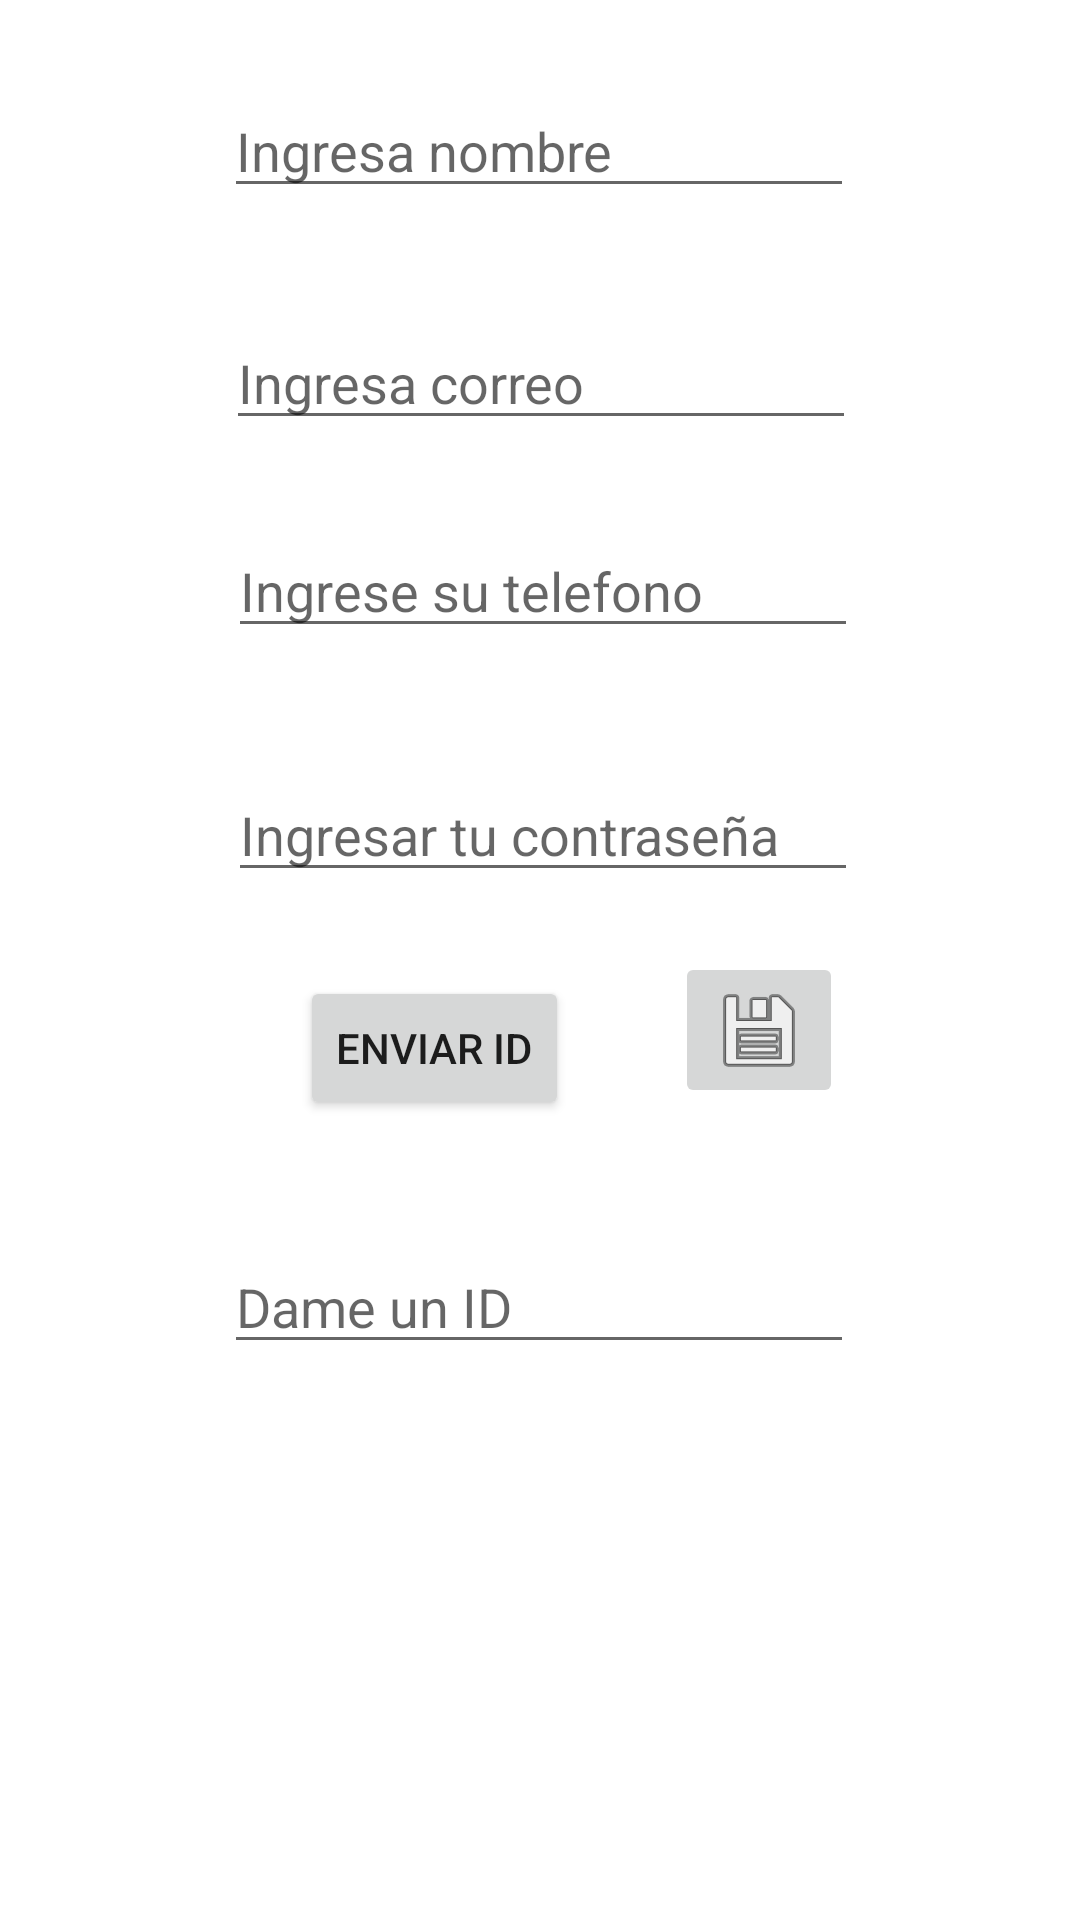

Icons on this 1080px x 1920px Android screen, each with the point to tap as point (x, y):
save: point (759, 1030)
